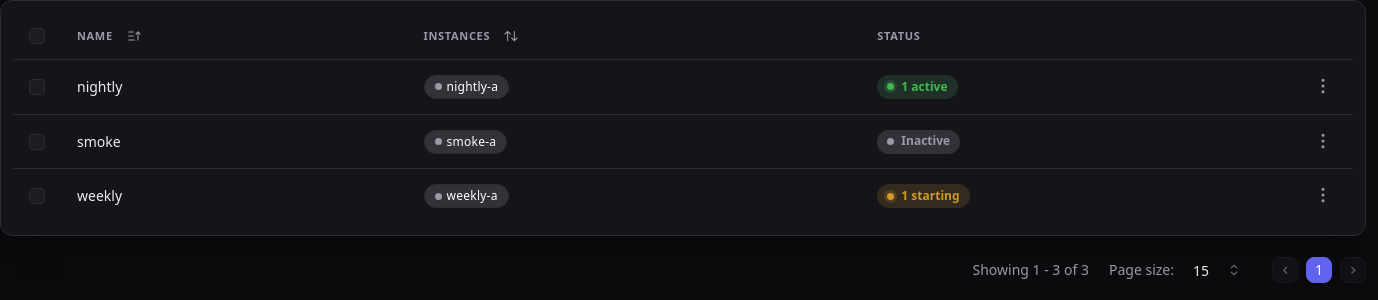
Test: ScenariosTable › selects every scenario at once
Step 1. Click the checkbox named "Select all" → (37, 36), box [29,28,45,44]
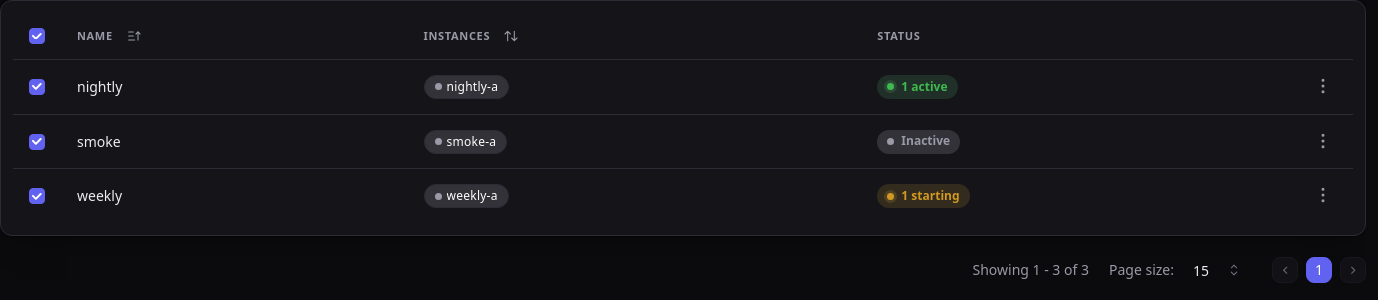
Result: the checkbox in the row of "nightly-a" is checked at [29,79,45,95]
Result: the checkbox in the row of "smoke-a" is checked at [29,134,45,150]
Result: the checkbox in the row of "weekly-a" is checked at [29,188,45,204]
